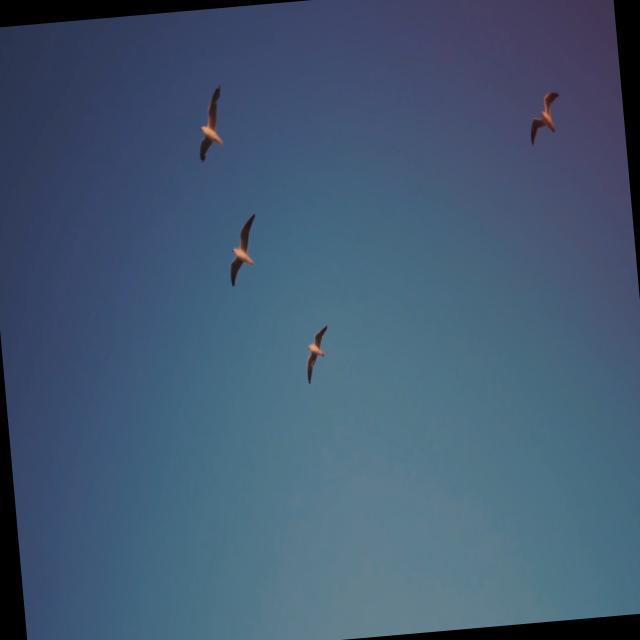bird: (223, 211, 263, 290), (193, 82, 230, 164), (525, 88, 565, 148), (302, 323, 334, 386)
